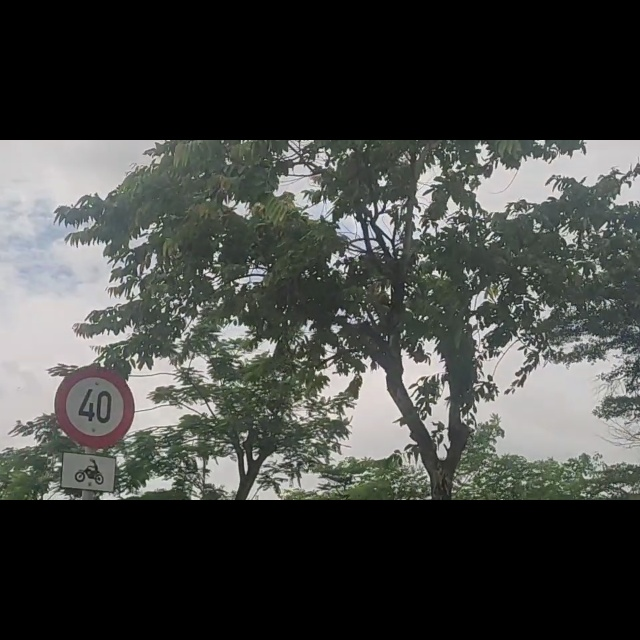Tốc độ tối đa cho phép 40km/h: (55, 367, 137, 451)
